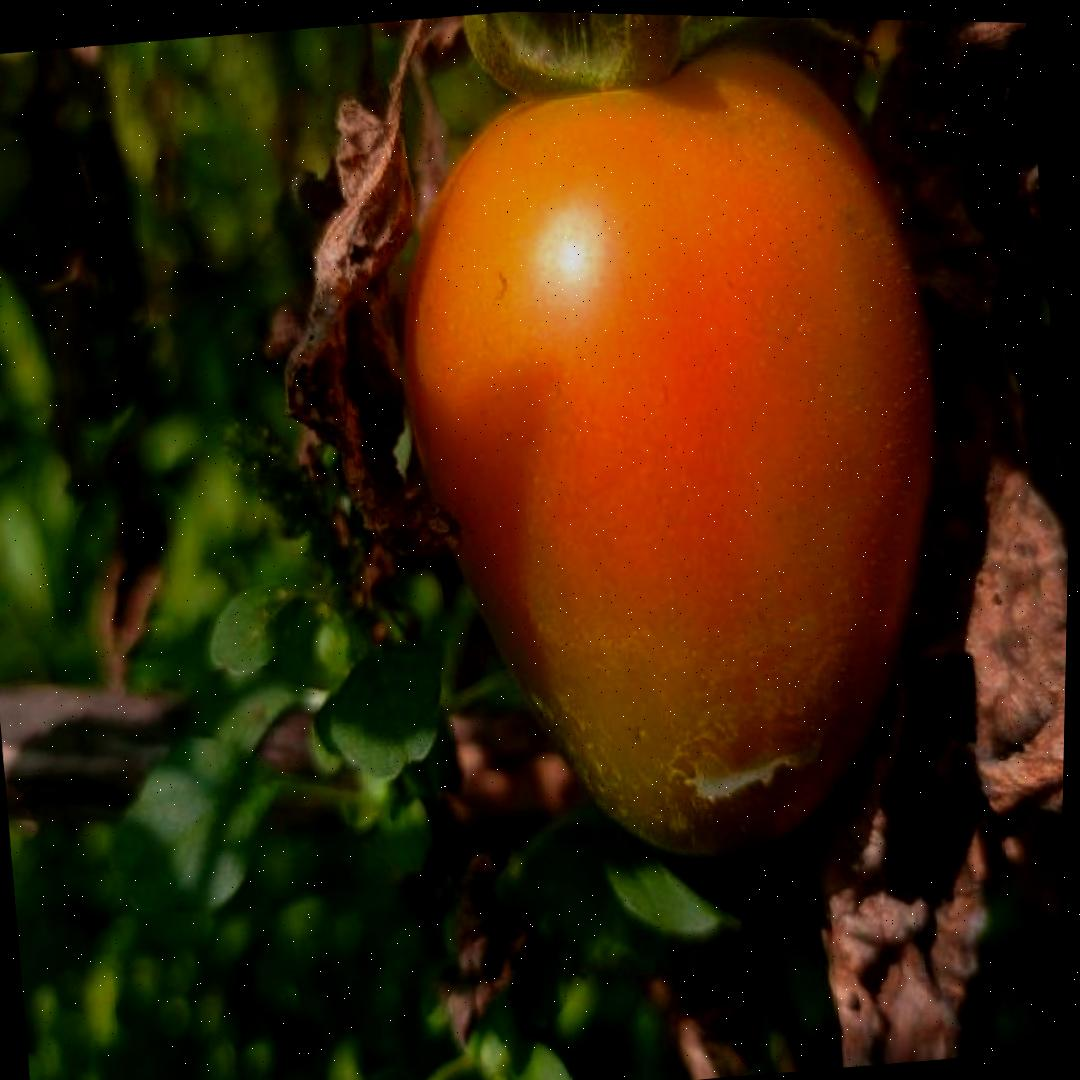setengah_matang: (357, 15, 992, 892)
